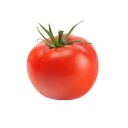tomato: (26, 31, 99, 100)
